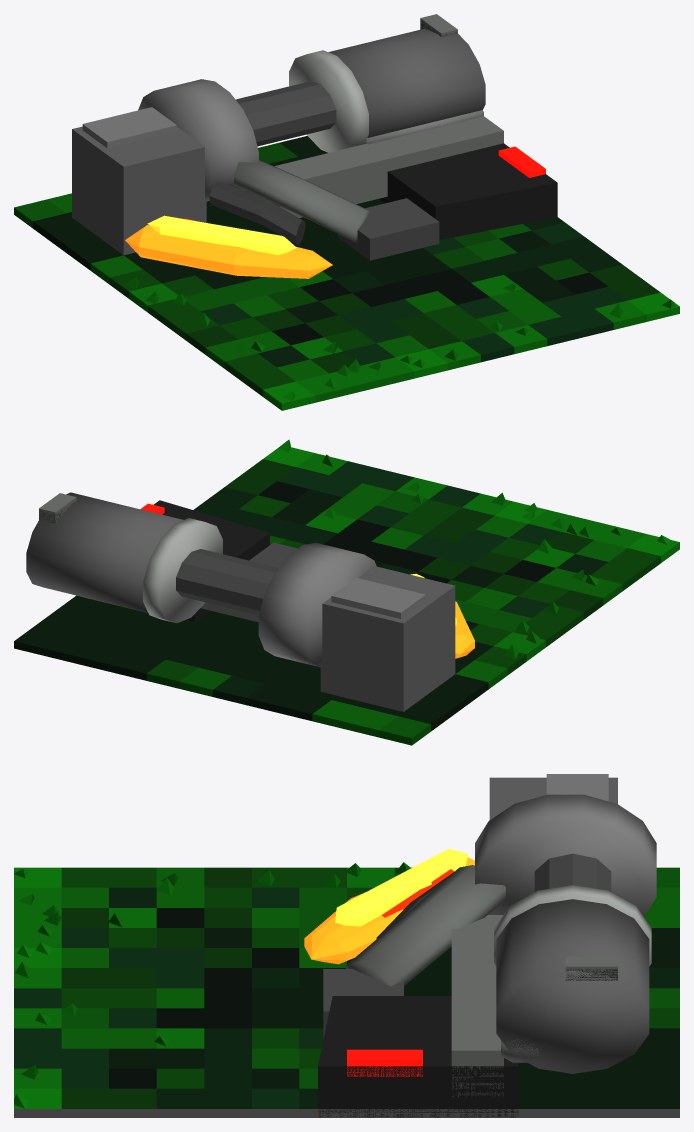
Rendered from newshg-267.glb.
3 views of the same model, one above another, from view 1: azimuth 30°, elevation 25°; view 2: azimuth 150°, elevation 25°; view 3: azimuth 270°, elevation 25° (orthographic). The views are drawn at different scales.
Parts seen in each view (by area): view 1: newshg-267, newshg-267-flare; view 2: newshg-267, newshg-267-flare, newshg-267-hatch0; view 3: newshg-267, newshg-267-flare, newshg-267-hatch0.
Part boxes in pixels (<box>): newshg-267: <box>14,28,679,410</box>; newshg-267-flare: <box>125,215,332,278</box>; newshg-267: <box>14,439,679,745</box>; newshg-267-flare: <box>410,573,474,658</box>; newshg-267-hatch0: <box>39,493,76,523</box>; newshg-267: <box>14,774,679,1117</box>; newshg-267-flare: <box>304,848,474,964</box>; newshg-267-hatch0: <box>565,956,617,980</box>.
Size of the model in its own units: 2 by 0.5854 by 2.33.
